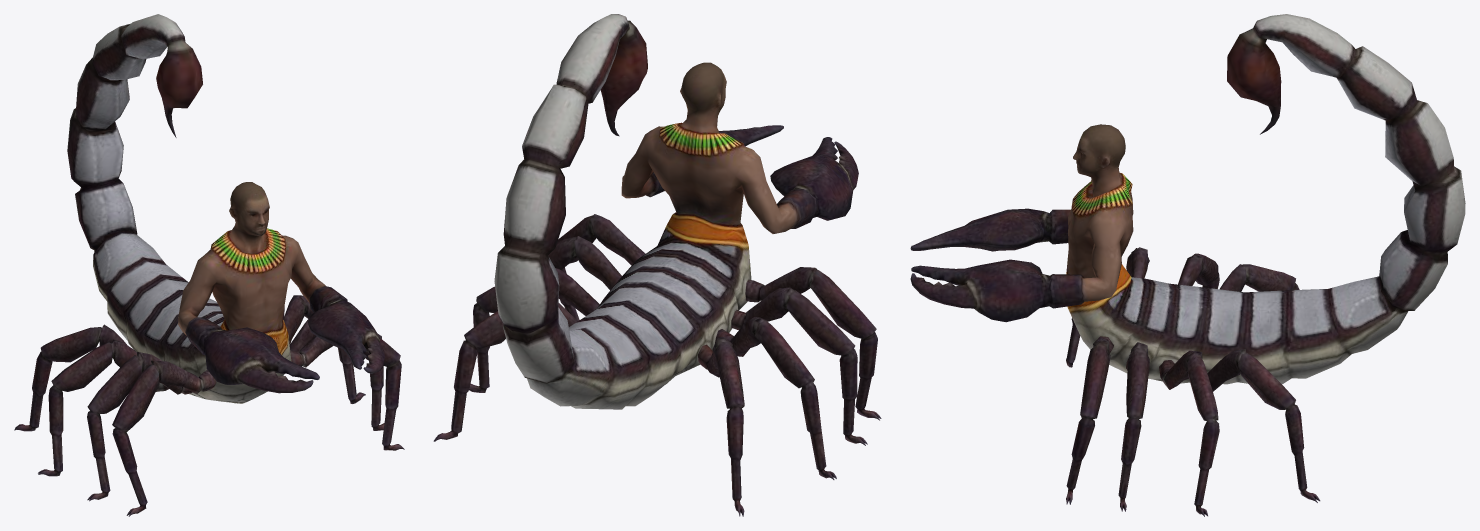
The model's file is 71-scorpionman.glb.
3 views of the same model, side by side, from view 1: azimuth 30°, elevation 25°; view 2: azimuth 150°, elevation 25°; view 3: azimuth 270°, elevation 25° (orthographic). The views are drawn at different scales.
Bounding box in the file's own units: 2.46 × 2.81 × 3.38.
1 material, 1 textured.
